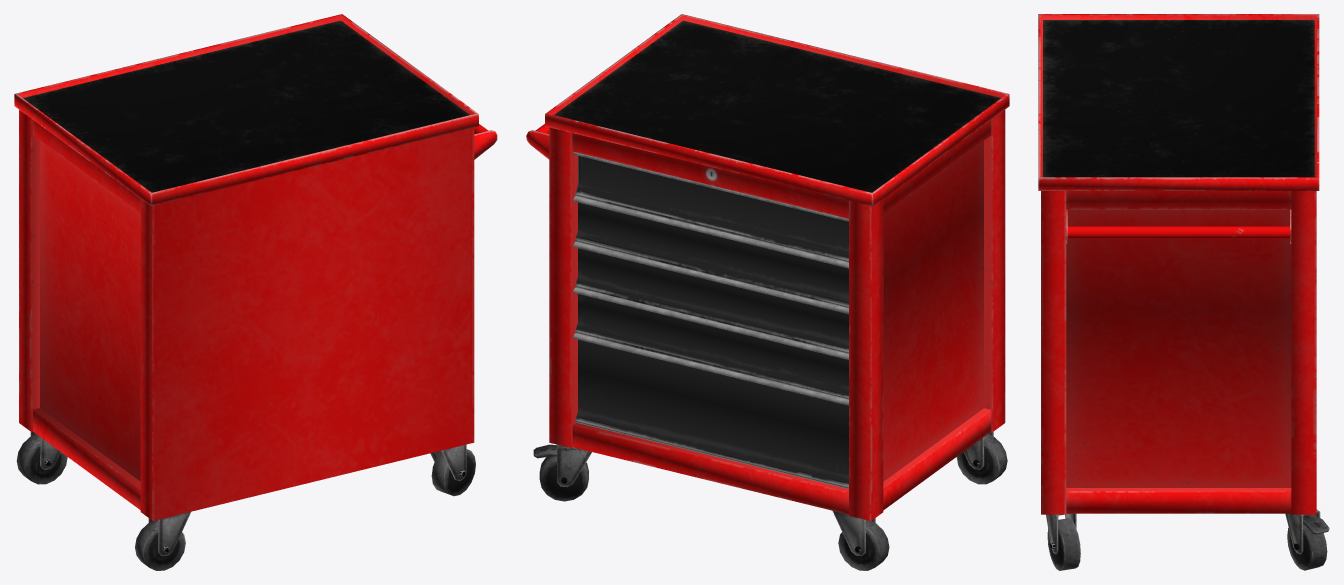
File: free_drawer_tool_cart_used.glb
3 renders of one model, left to right at view 1: azimuth 30°, elevation 25°; view 2: azimuth 150°, elevation 25°; view 3: azimuth 270°, elevation 25°, orthographic. The views are drawn at different scales.
Visible parts, largest first — view 1: Object_2; view 2: Object_2; view 3: Object_2.
Boxes of the visible parts, box(x1,y1,x2,y2) form: Object_2: box(14, 14, 497, 570); Object_2: box(526, 14, 1009, 570); Object_2: box(1038, 14, 1329, 570).
Bounding box in the file's own units: 40.01 × 40.53 × 27.05.
1 material, 1 textured.
